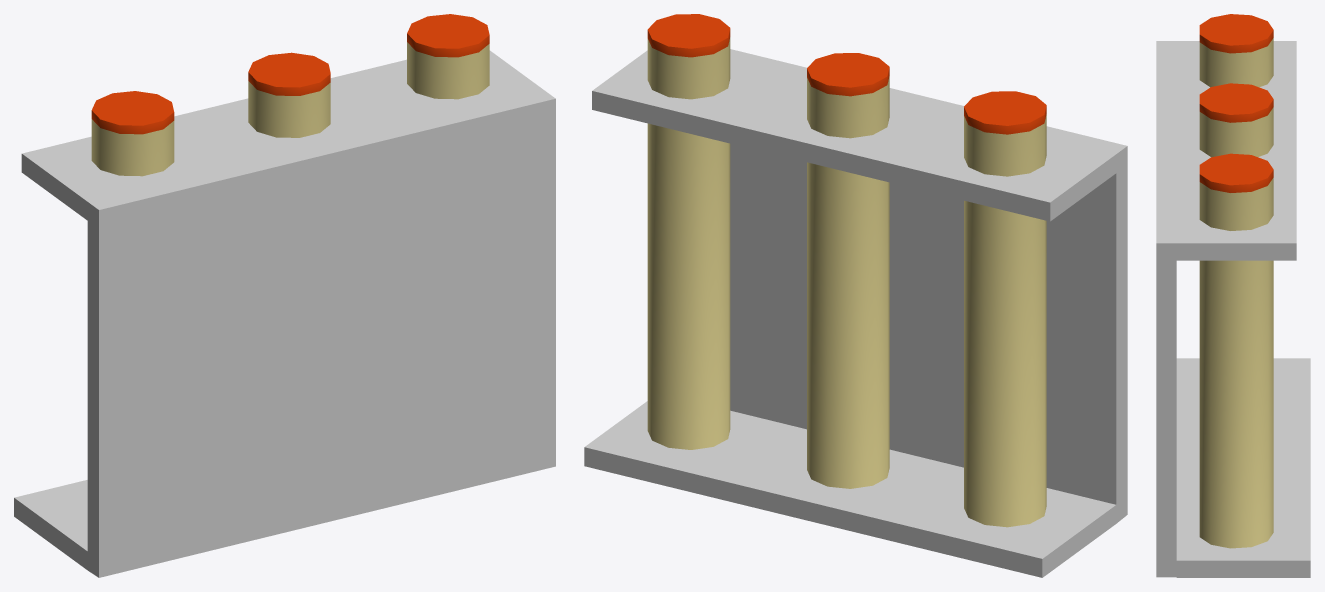
The model's file is eprouvette.fbx.
3 views of the same model, side by side, from view 1: azimuth 30°, elevation 25°; view 2: azimuth 150°, elevation 25°; view 3: azimuth 270°, elevation 25° (orthographic). The views are drawn at different scales.
Parts seen in each view (by area): view 1: Cube.008, Cylinder.016, Cylinder.014, Cylinder.015; view 2: Cube.008, Cylinder.014, Cylinder.016, Cylinder.015; view 3: Cube.008, Cylinder.014, Cylinder.015, Cylinder.016.
Part boxes in pixels (bbox=[...]): Cube.008: bbox=[14, 50, 555, 577]; Cylinder.016: bbox=[91, 91, 174, 176]; Cylinder.014: bbox=[407, 14, 489, 99]; Cylinder.015: bbox=[248, 52, 330, 137]; Cube.008: bbox=[584, 49, 1127, 577]; Cylinder.014: bbox=[647, 14, 730, 449]; Cylinder.016: bbox=[964, 91, 1046, 527]; Cylinder.015: bbox=[807, 53, 889, 488]; Cube.008: bbox=[1156, 41, 1310, 577]; Cylinder.014: bbox=[1199, 153, 1273, 548]; Cylinder.015: bbox=[1199, 83, 1273, 157]; Cylinder.016: bbox=[1199, 14, 1273, 87].
Bounding box in the file's own units: 10.23 × 8.97 × 3.29.
